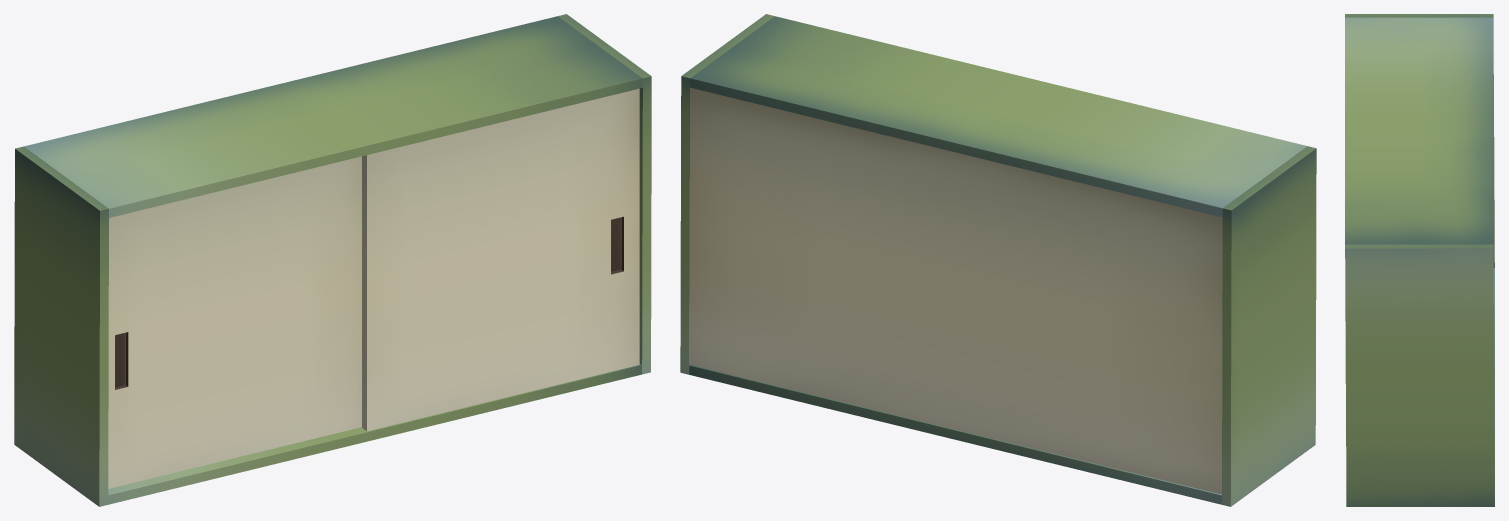
The model's file is cabin05ac.fbx.
3 renders of one model, left to right at view 1: azimuth 30°, elevation 25°; view 2: azimuth 150°, elevation 25°; view 3: azimuth 270°, elevation 25°, orthographic. The views are drawn at different scales.
Visible parts, largest first — view 1: cabin05ac; view 2: cabin05ac; view 3: cabin05ac.
Part boxes in pixels (x1,y1,x2,y2): cabin05ac: (14, 14, 651, 506); cabin05ac: (680, 14, 1316, 506); cabin05ac: (1345, 14, 1494, 506).
Bounding box in the file's own units: 1.24 × 0.6369 × 0.3345.
